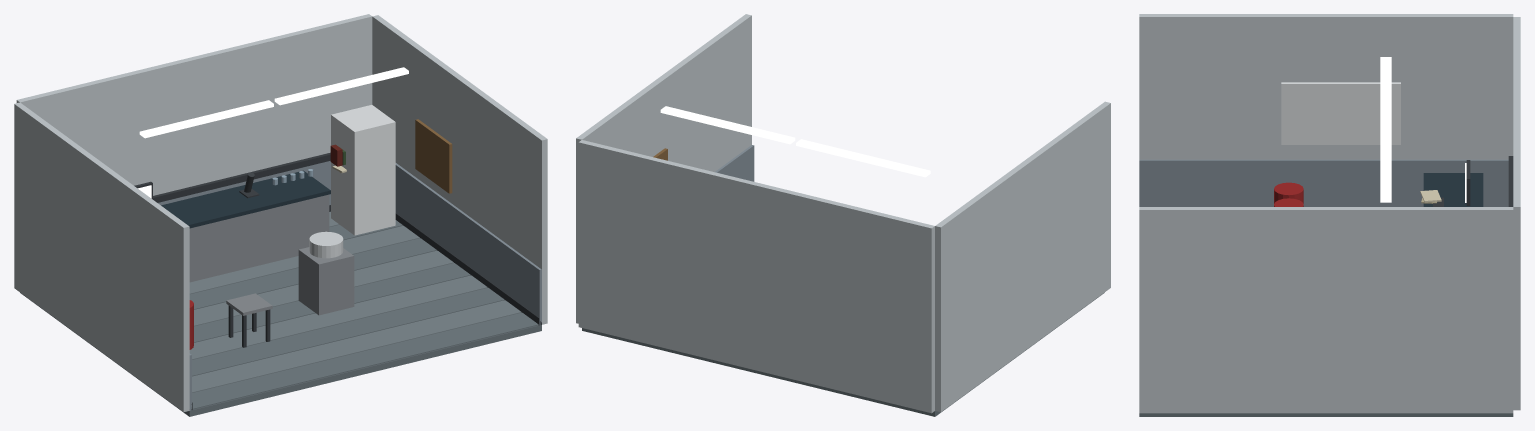
Rendered from sn_lab.glb.
The picture shows the model from 3 angles, left to right: view 1: azimuth 30°, elevation 25°; view 2: azimuth 150°, elevation 25°; view 3: azimuth 270°, elevation 25°; orthographic projection. The views are drawn at different scales.
Parts seen in each view (by area): view 1: WallBack, WallLeft, WallRight, BandRight, Fridge, LBenchBase, Plank0, Plank1, Plank2, Plank3, LBench, Plank4 (+13 smaller); view 2: WallBack, WallLeft, WallRight, Floor, Light2, Light1, BandRight; view 3: WallRight, WallLeft, BandLeft, WhiteBoard, WallBack, LBench, Floor, Light2, Light1, Barrel0.
Boxes of the visible parts, x1,y1,x2,y2 form: WallBack: [16, 14, 372, 195]; WallLeft: [14, 102, 189, 411]; WallRight: [372, 15, 547, 324]; BandRight: [395, 163, 541, 324]; Fridge: [331, 105, 395, 235]; LBenchBase: [189, 194, 329, 282]; Plank0: [192, 312, 538, 409]; Plank1: [192, 300, 521, 392]; Plank2: [192, 287, 504, 376]; Plank3: [189, 275, 487, 359]; LBench: [161, 170, 330, 228]; Plank4: [194, 263, 470, 342]; WallBack: [578, 140, 934, 413]; WallLeft: [935, 101, 1110, 411]; WallRight: [576, 14, 751, 323]; Floor: [582, 292, 1104, 416]; Light2: [660, 106, 795, 144]; Light1: [796, 139, 930, 177]; BandRight: [714, 145, 754, 181]; WallRight: [1139, 207, 1513, 413]; WallLeft: [1139, 14, 1513, 159]; BandLeft: [1139, 159, 1508, 206]; WhiteBoard: [1281, 82, 1400, 144]; WallBack: [1513, 17, 1520, 410]; LBench: [1423, 173, 1483, 206]; Floor: [1139, 413, 1513, 416]; Light2: [1380, 129, 1391, 202]; Light1: [1380, 57, 1391, 129]; Barrel0: [1274, 182, 1303, 203].
Size of the model in its own units: 6.2 by 3.1 by 5.1.
